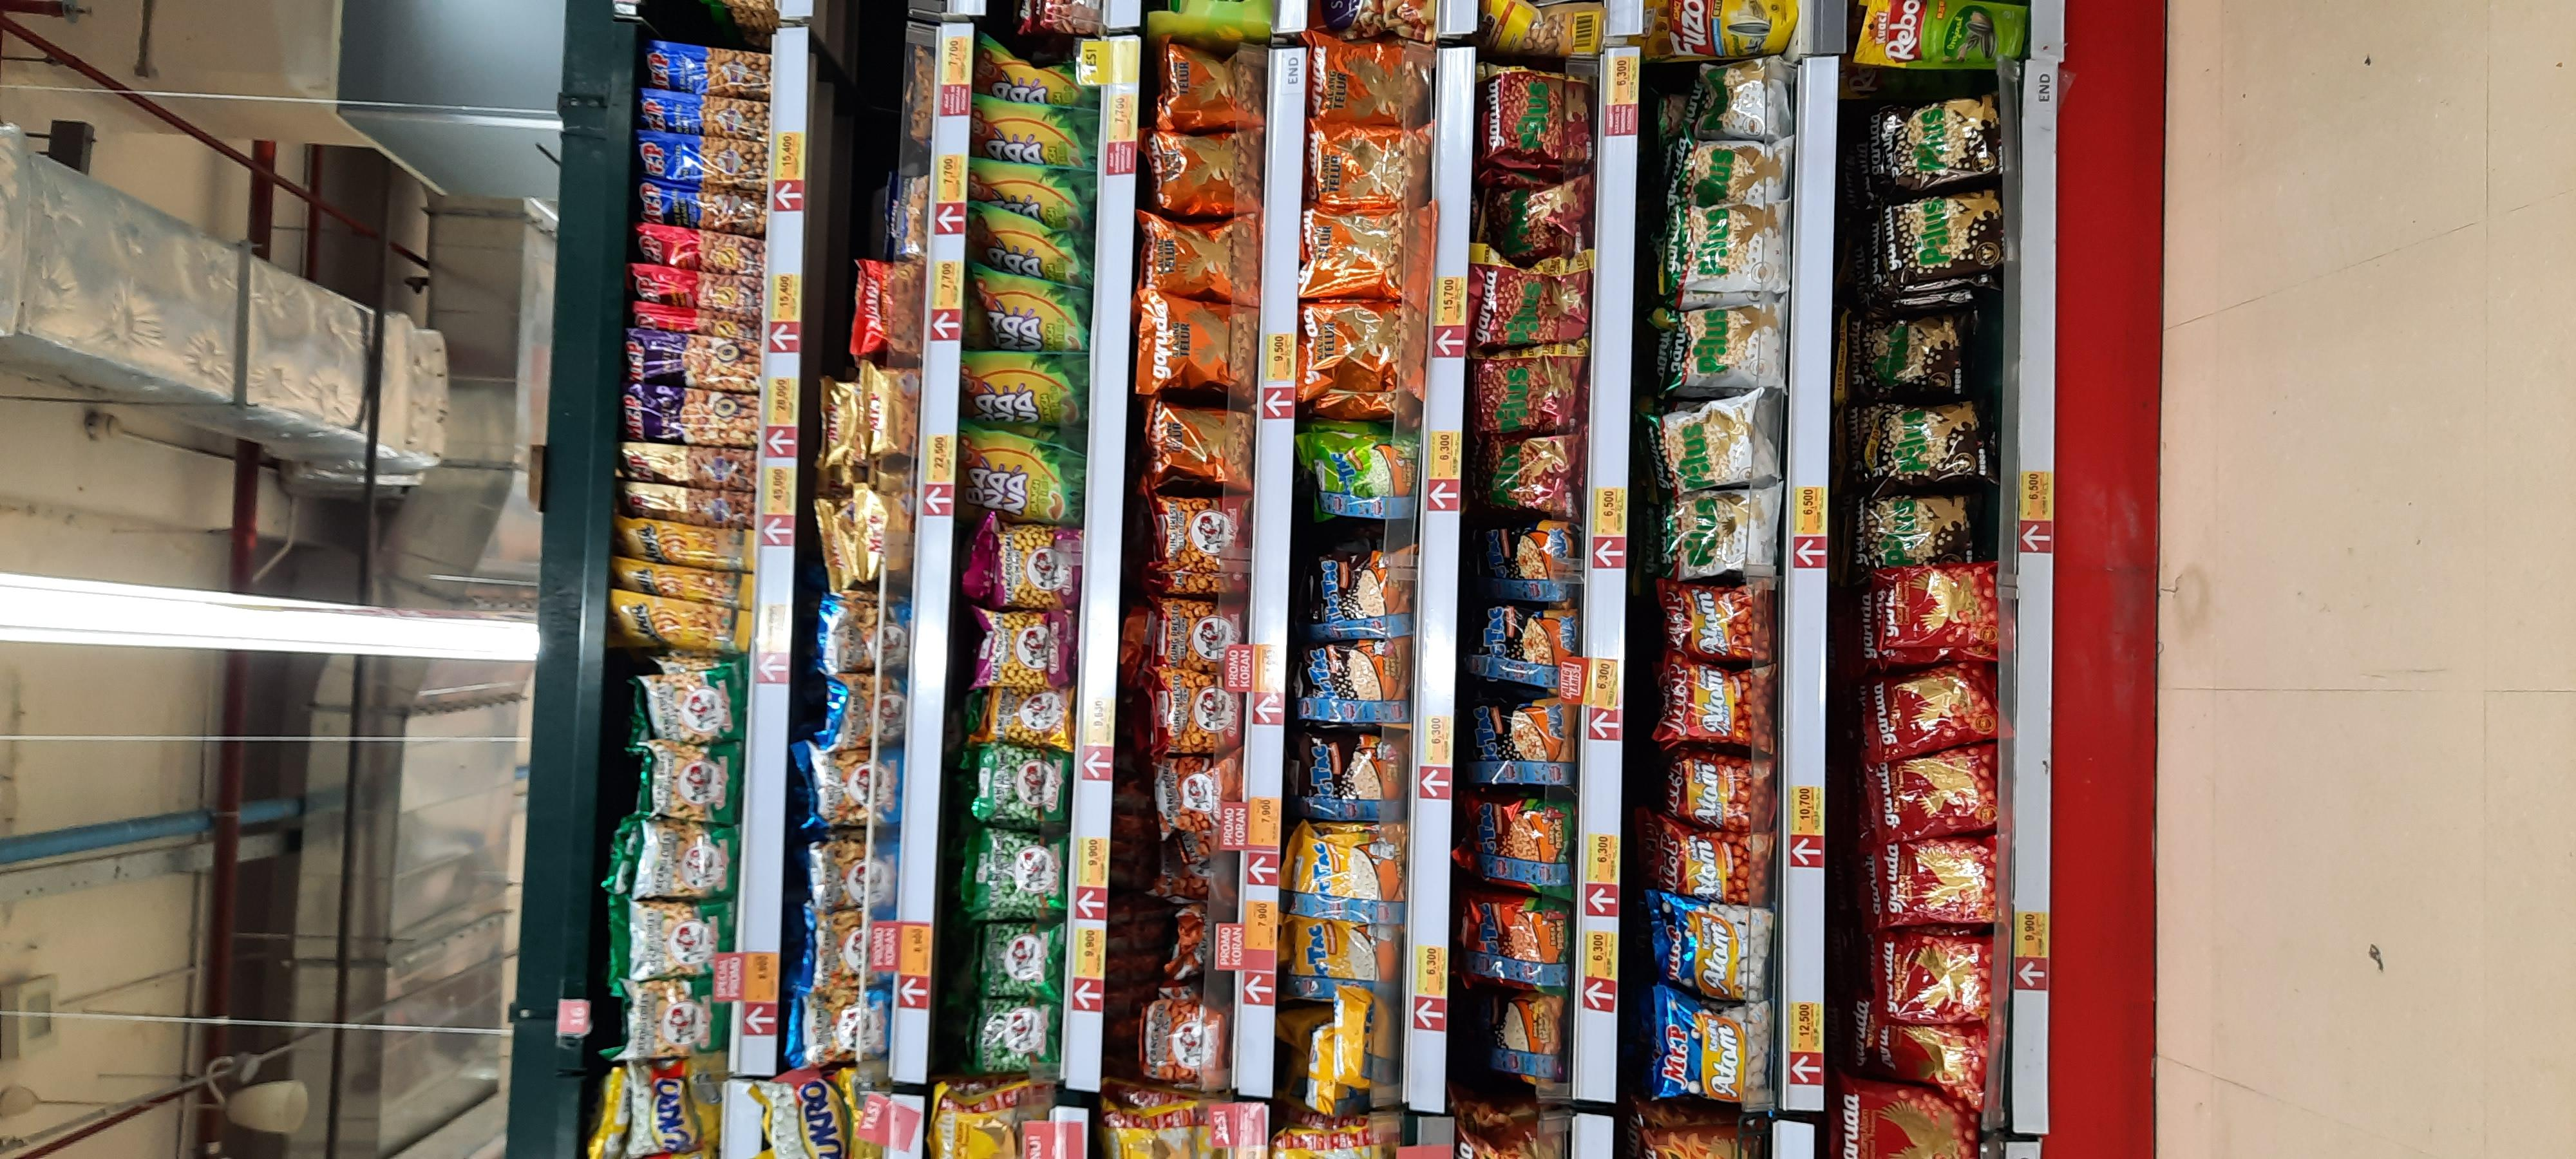90101111302100: (1873, 568, 2006, 653), (1874, 929, 2008, 1015), (1873, 837, 2006, 923), (1870, 758, 2003, 842), (1865, 671, 1998, 755)
90101111701100: (1301, 295, 1424, 407), (1301, 34, 1433, 123), (1301, 213, 1431, 300), (1311, 131, 1434, 210)
90101111702100: (1132, 287, 1263, 401), (1145, 39, 1270, 128), (1142, 402, 1257, 492), (1148, 135, 1262, 218), (1140, 223, 1265, 287)
90101151201100: (1477, 64, 1598, 169), (1472, 343, 1589, 428), (1470, 256, 1587, 341), (1467, 437, 1582, 520)
90101151402100: (1856, 80, 2014, 186), (1856, 184, 2014, 287), (1848, 397, 2001, 484), (1845, 320, 1999, 405), (1851, 497, 2001, 560)
90101151604100: (1648, 391, 1774, 489), (1663, 295, 1789, 394), (1658, 484, 1784, 581), (1659, 205, 1786, 302), (1667, 62, 1792, 138), (1666, 136, 1789, 210)
KacangDuaKelinciAyamBawang: (982, 527, 1079, 606), (974, 609, 1071, 686)
KacangDuaKelinciBawang: (619, 980, 729, 1061), (626, 898, 734, 978), (636, 744, 751, 819), (636, 818, 749, 893), (637, 673, 748, 737)
KacangDuaKelinciBbq: (981, 691, 1076, 744)
KacangDuaKelinciMixNut: (802, 737, 900, 826), (798, 905, 897, 993), (790, 985, 889, 1074), (816, 588, 915, 676), (802, 832, 900, 905), (821, 681, 915, 734)
KacangDuaKelinciPedas: (1152, 486, 1244, 578), (1148, 750, 1242, 836), (1152, 680, 1244, 765), (1135, 995, 1227, 1079), (1153, 598, 1244, 668)
KacangDuaKelinciPolong: (974, 832, 1063, 908), (977, 921, 1066, 996), (968, 1006, 1056, 1082), (977, 747, 1065, 821)
Mr.pKacangAtomPedas: (1667, 744, 1782, 826), (1659, 583, 1774, 663), (1654, 821, 1768, 901), (1658, 670, 1771, 750)
Mr.pKacangOriginal: (1649, 982, 1779, 1115), (1641, 893, 1782, 993)
TicTacBbq: (1298, 732, 1401, 818), (1309, 558, 1413, 642), (1296, 639, 1400, 722)
TicTacMix: (1470, 515, 1576, 604), (1467, 706, 1572, 793), (1472, 609, 1577, 696)
TicTacOriginal: (1288, 911, 1403, 1005), (1296, 831, 1410, 923)
TicTacPedas: (1472, 793, 1577, 901), (1456, 900, 1572, 995)
TicTacSeaWeed: (1308, 427, 1419, 520)
